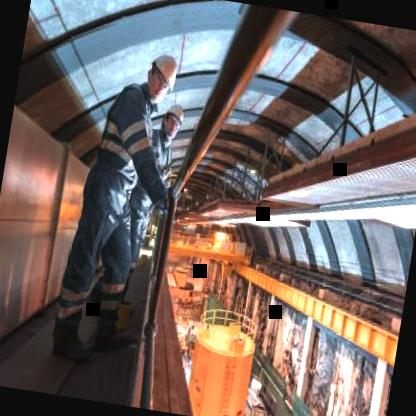helmet: (139, 48, 181, 102), (152, 95, 186, 144)
